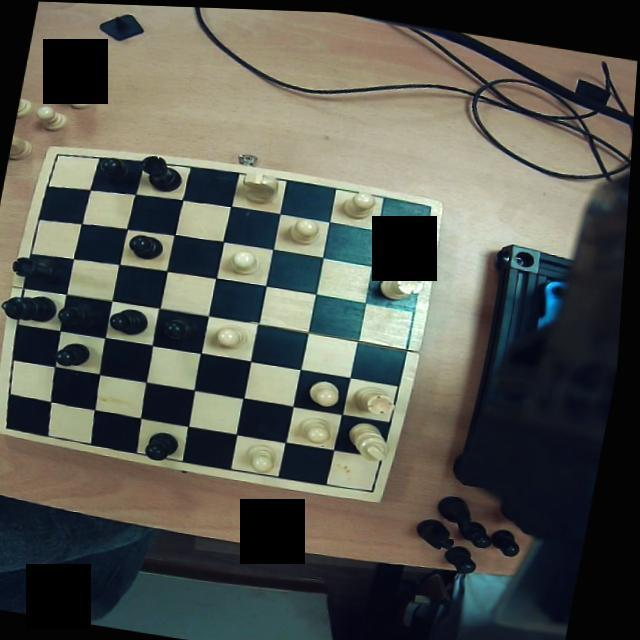chess-table-corners: (414, 194, 442, 219), (366, 472, 390, 498), (44, 147, 70, 169), (0, 417, 29, 436)
